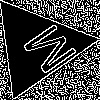M: (12, 21, 79, 82)
